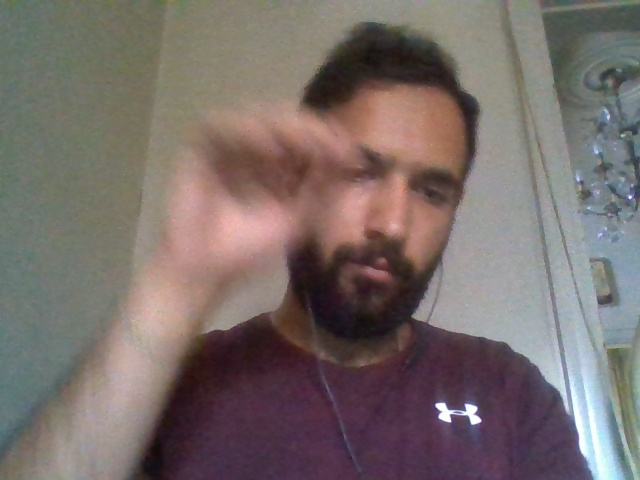Snake: (93, 85, 340, 480)
